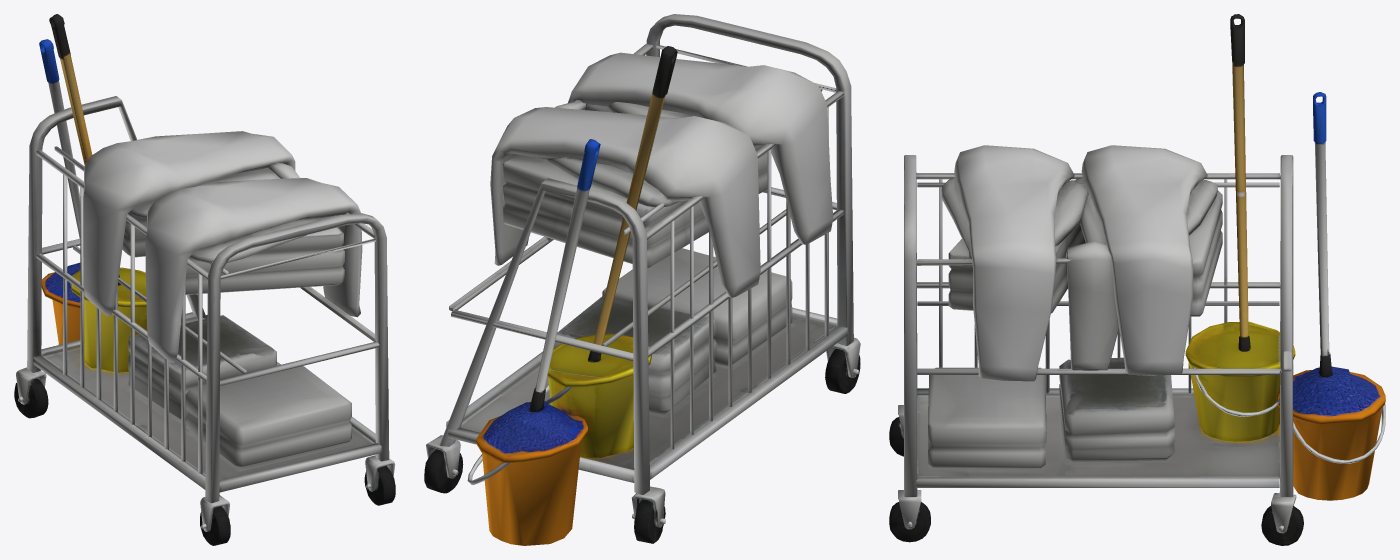
Rendered from PPE_B_CleaningCart.fbx.
3 renders of one model, left to right at view 1: azimuth 30°, elevation 25°; view 2: azimuth 150°, elevation 25°; view 3: azimuth 270°, elevation 25°, orthographic. The views are drawn at different scales.
Visible parts, largest first — view 1: meshes[0]; view 2: meshes[0]; view 3: meshes[0].
Boxes of the visible parts, x1,y1,x2,y2 form: meshes[0]: (14, 14, 395, 545); meshes[0]: (424, 14, 860, 545); meshes[0]: (889, 14, 1385, 545).
Size of the model in its own units: 0.5059 by 0.9707 by 0.998.
